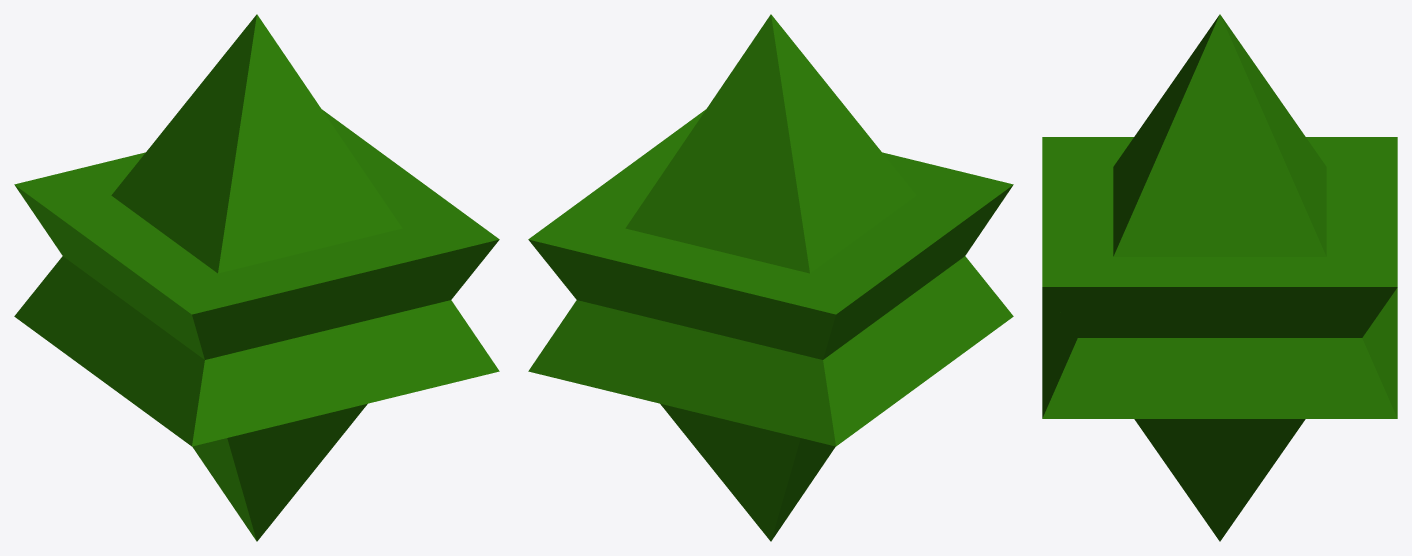
File: gems_001.fbx
3 renders of one model, left to right at view 1: azimuth 30°, elevation 25°; view 2: azimuth 150°, elevation 25°; view 3: azimuth 270°, elevation 25°, orthographic.
Parts seen in each view (by area): view 1: gems.001; view 2: gems.001; view 3: gems.001.
Part boxes in pixels (x1,y1,x2,y2): gems.001: (14,14,499,541); gems.001: (528,14,1013,541); gems.001: (1042,14,1397,541).
Bounding box in the file's own units: 12 × 19.67 × 12.
